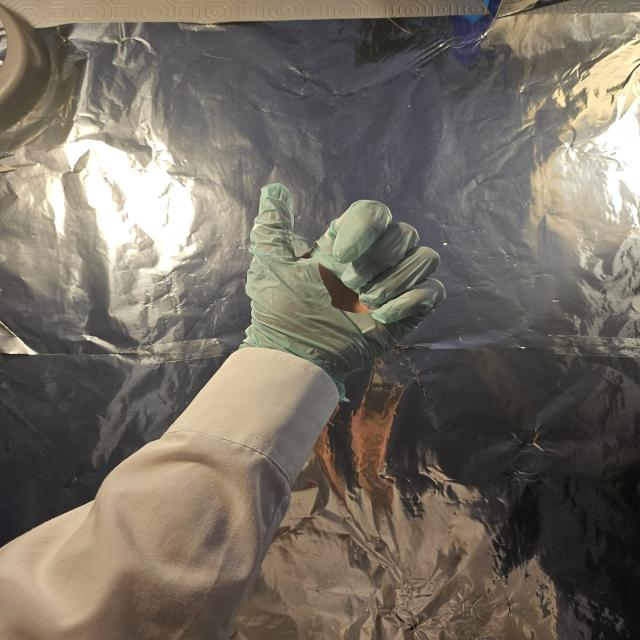gloves_damaged: (243, 180, 450, 397)
